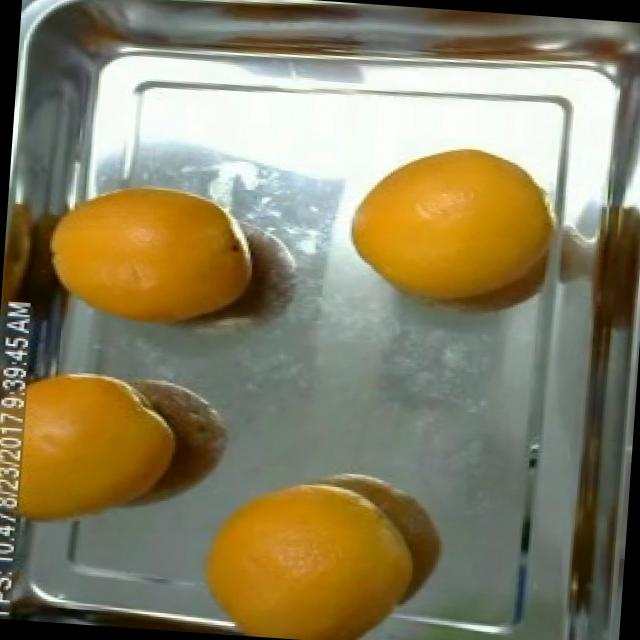Fruit: (26, 158, 266, 351), (0, 368, 213, 566)
